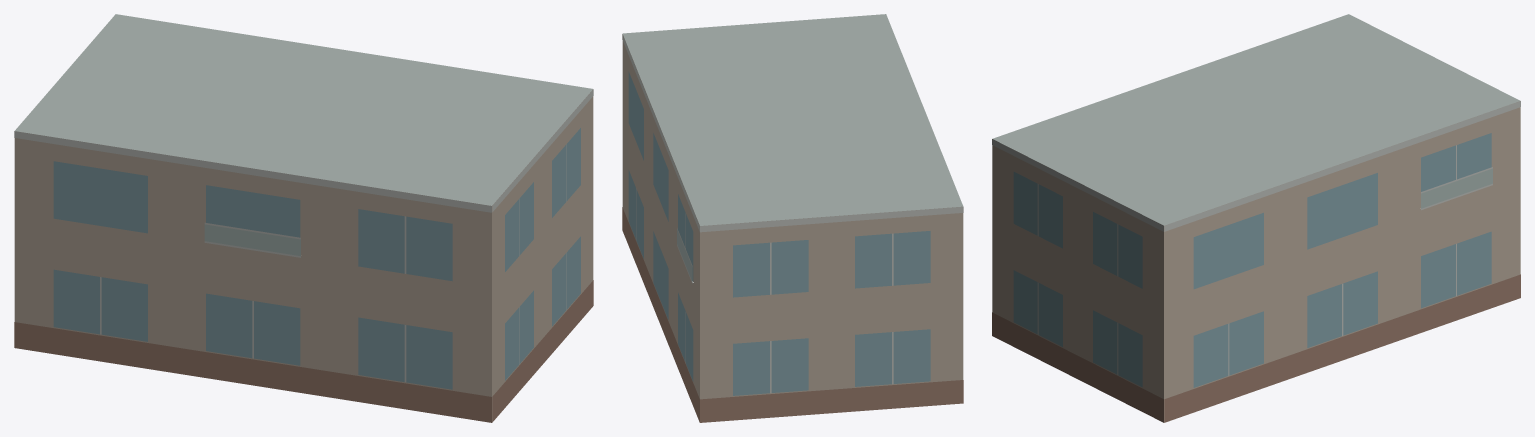
Rendered from survey-upis-32627333.glb.
The picture shows the model from 3 angles, left to right: view 1: azimuth 30°, elevation 25°; view 2: azimuth 150°, elevation 25°; view 3: azimuth 270°, elevation 25°; orthographic projection. The views are drawn at different scales.
Visible parts, largest first — view 1: survey-upis-32627333.tmp; view 2: survey-upis-32627333.tmp; view 3: survey-upis-32627333.tmp.
Boxes of the visible parts, x1,y1,x2,y2 form: survey-upis-32627333.tmp: [14, 14, 593, 422]; survey-upis-32627333.tmp: [622, 14, 963, 422]; survey-upis-32627333.tmp: [992, 14, 1520, 422].
Bounding box in the file's own units: 17.74 × 7.7 × 18.72.
